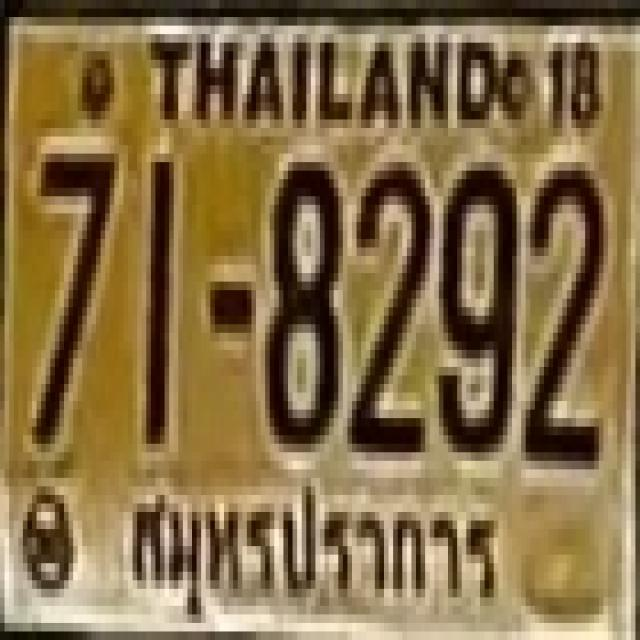1: (142, 158, 169, 439)
2: (521, 158, 599, 456), (348, 158, 425, 448)
7: (32, 150, 110, 440)
8: (261, 154, 338, 444)
9: (434, 154, 512, 444)
SPK: (116, 466, 503, 613)
